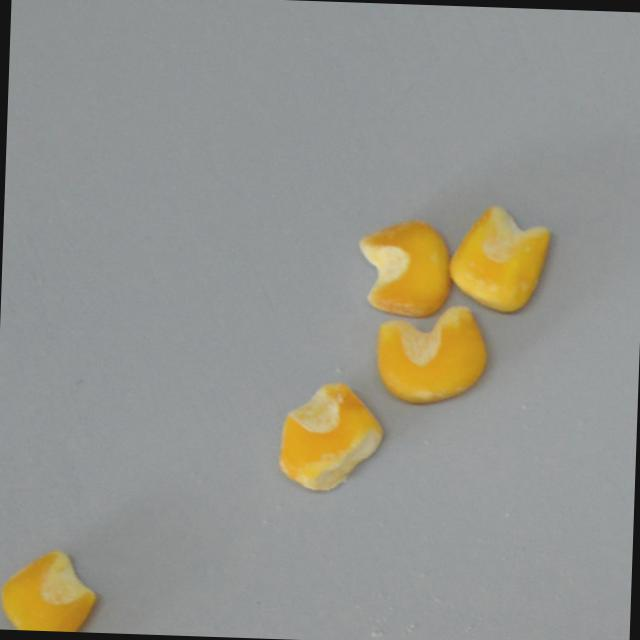dañado: (273, 377, 390, 495), (350, 213, 455, 319)
no_canjicado: (0, 542, 106, 633)
pelicula: (372, 298, 491, 407), (444, 200, 554, 317)
